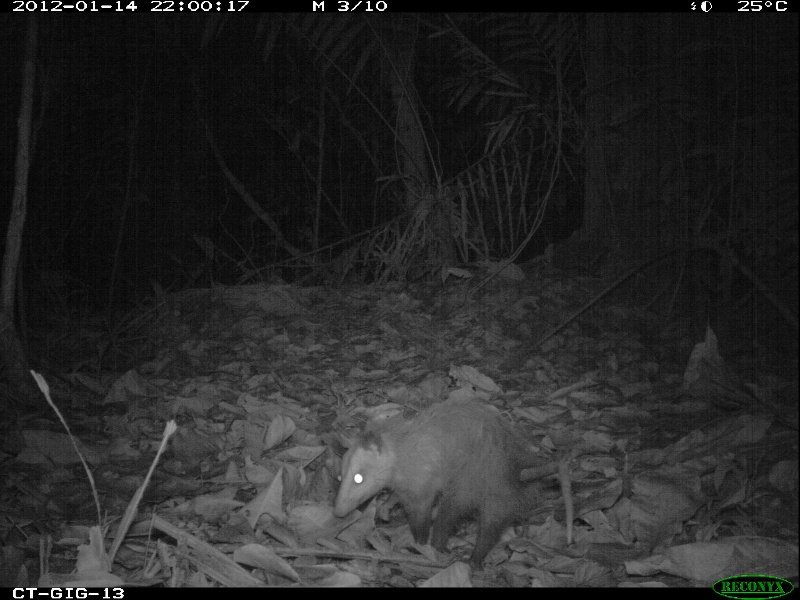opossum: (328, 400, 583, 580)
